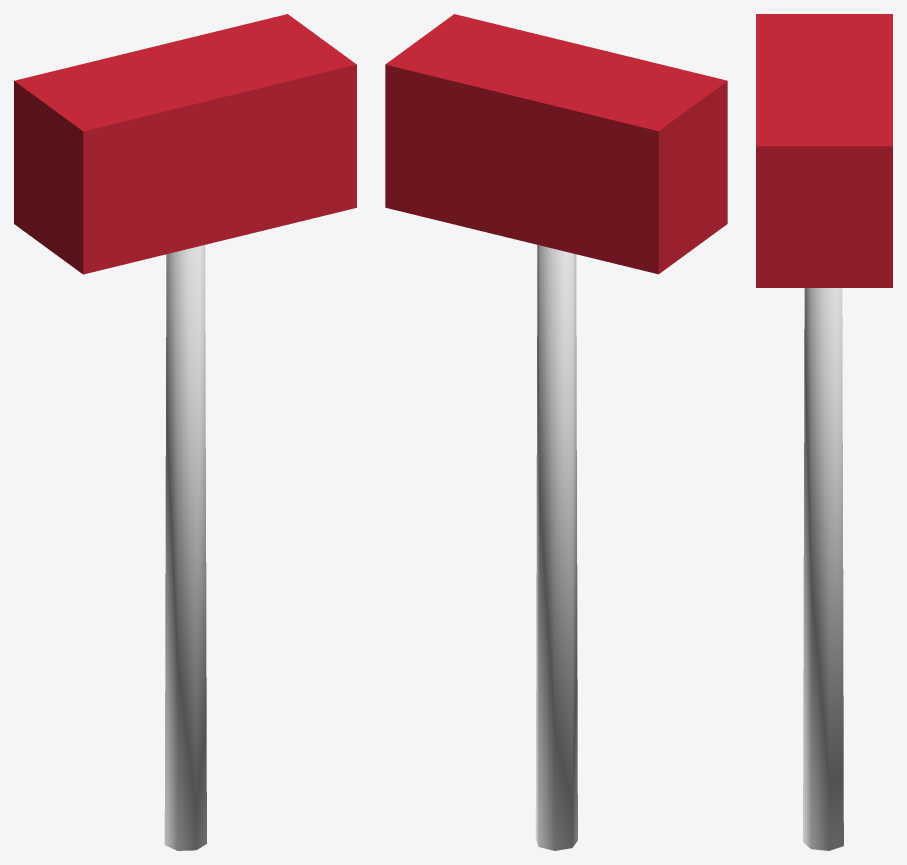
File: adamantite_hammer.glb
The picture shows the model from 3 angles, left to right: view 1: azimuth 30°, elevation 25°; view 2: azimuth 150°, elevation 25°; view 3: azimuth 270°, elevation 25°; orthographic projection.
Visible parts, largest first — view 1: adamantite_hammer_v0; view 2: adamantite_hammer_v0; view 3: adamantite_hammer_v0.
Part boxes in pixels (x1,y1,x2,y2): adamantite_hammer_v0: (14, 14, 356, 850); adamantite_hammer_v0: (385, 14, 727, 850); adamantite_hammer_v0: (756, 14, 892, 850).
Size of the model in its own units: 0.32 by 0.86 by 0.14.
